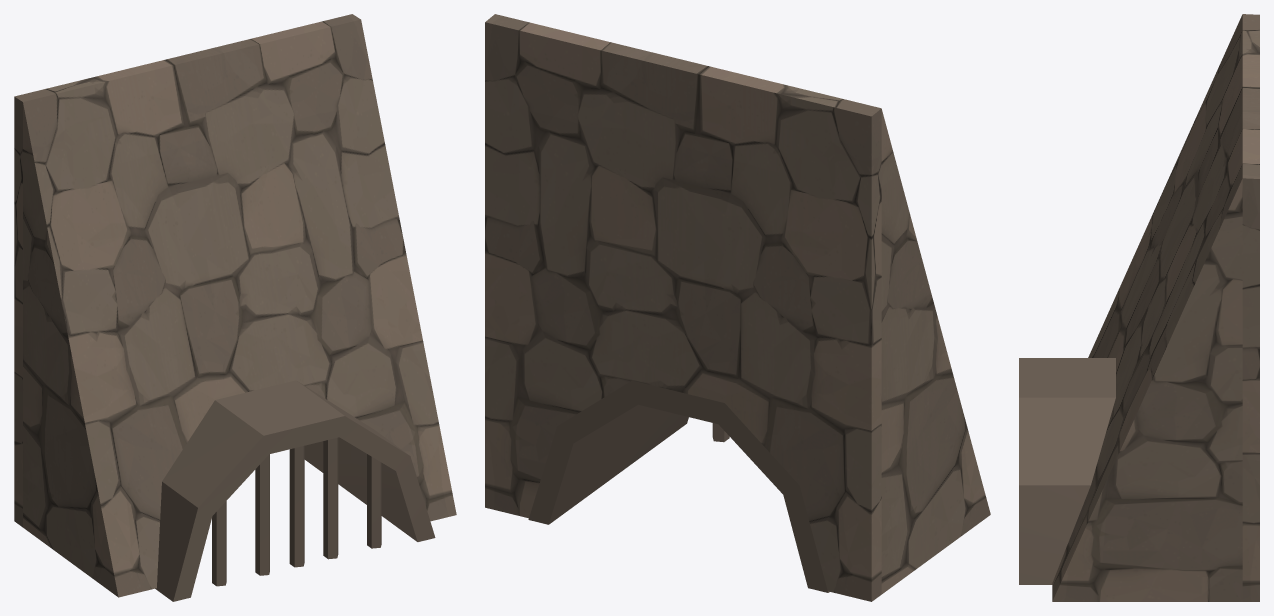
File: SM_Bld_Wall_Slope_01_Alt_01.fbx
The picture shows the model from 3 angles, left to right: view 1: azimuth 30°, elevation 25°; view 2: azimuth 150°, elevation 25°; view 3: azimuth 270°, elevation 25°; orthographic projection. The views are drawn at different scales.
Parts seen in each view (by area): view 1: SM_Bld_Wall_Slope_01_Alt_01; view 2: SM_Bld_Wall_Slope_01_Alt_01; view 3: SM_Bld_Wall_Slope_01_Alt_01.
Part boxes in pixels (x1,y1,x2,y2): SM_Bld_Wall_Slope_01_Alt_01: (14,14,456,601); SM_Bld_Wall_Slope_01_Alt_01: (485,14,990,601); SM_Bld_Wall_Slope_01_Alt_01: (1019,14,1259,601).
Bounding box in the file's own units: 500 × 603 × 310.
Materials: 1 (1 with a texture image).
